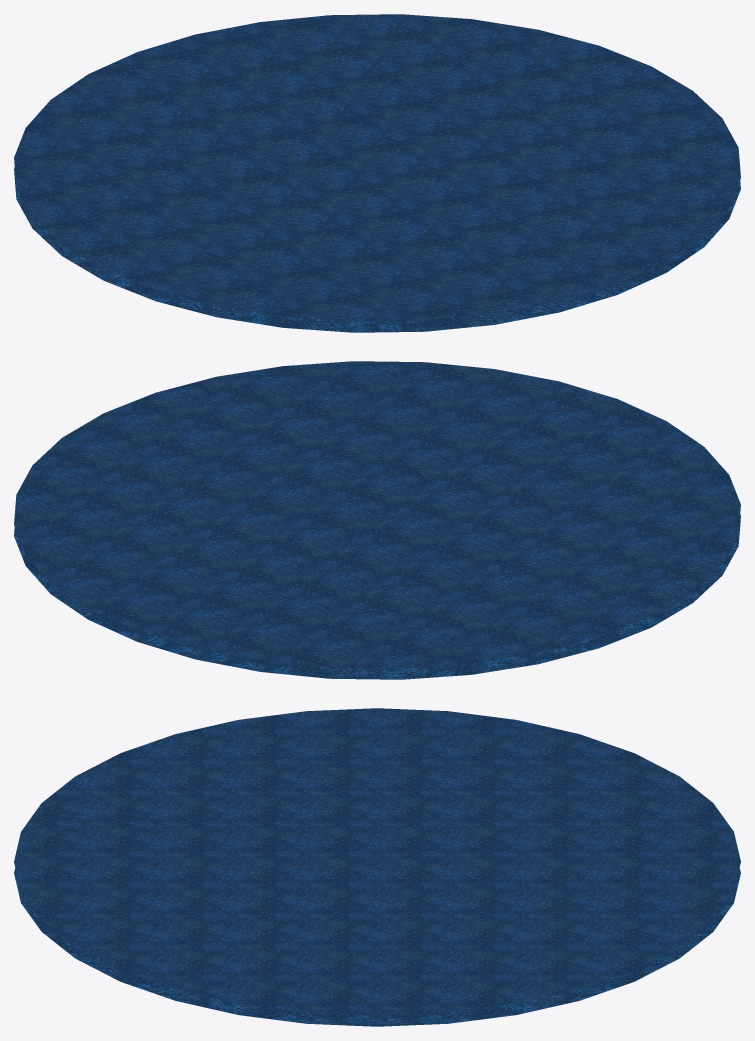
The model's file is Water.FBX.
3 views of the same model, one above another, from view 1: azimuth 30°, elevation 25°; view 2: azimuth 150°, elevation 25°; view 3: azimuth 270°, elevation 25° (orthographic).
Parts seen in each view (by area): view 1: Water_O, Water_D; view 2: Water_O, Water_D; view 3: Water_O, Water_D.
Boxes of the visible parts, bbox=[...] form: Water_O: bbox=[14, 14, 740, 321]; Water_D: bbox=[14, 168, 740, 332]; Water_O: bbox=[14, 361, 740, 668]; Water_D: bbox=[14, 515, 740, 679]; Water_O: bbox=[14, 708, 740, 1015]; Water_D: bbox=[14, 868, 740, 1026].
Size of the model in its own units: 562 by 9.67 by 562.
